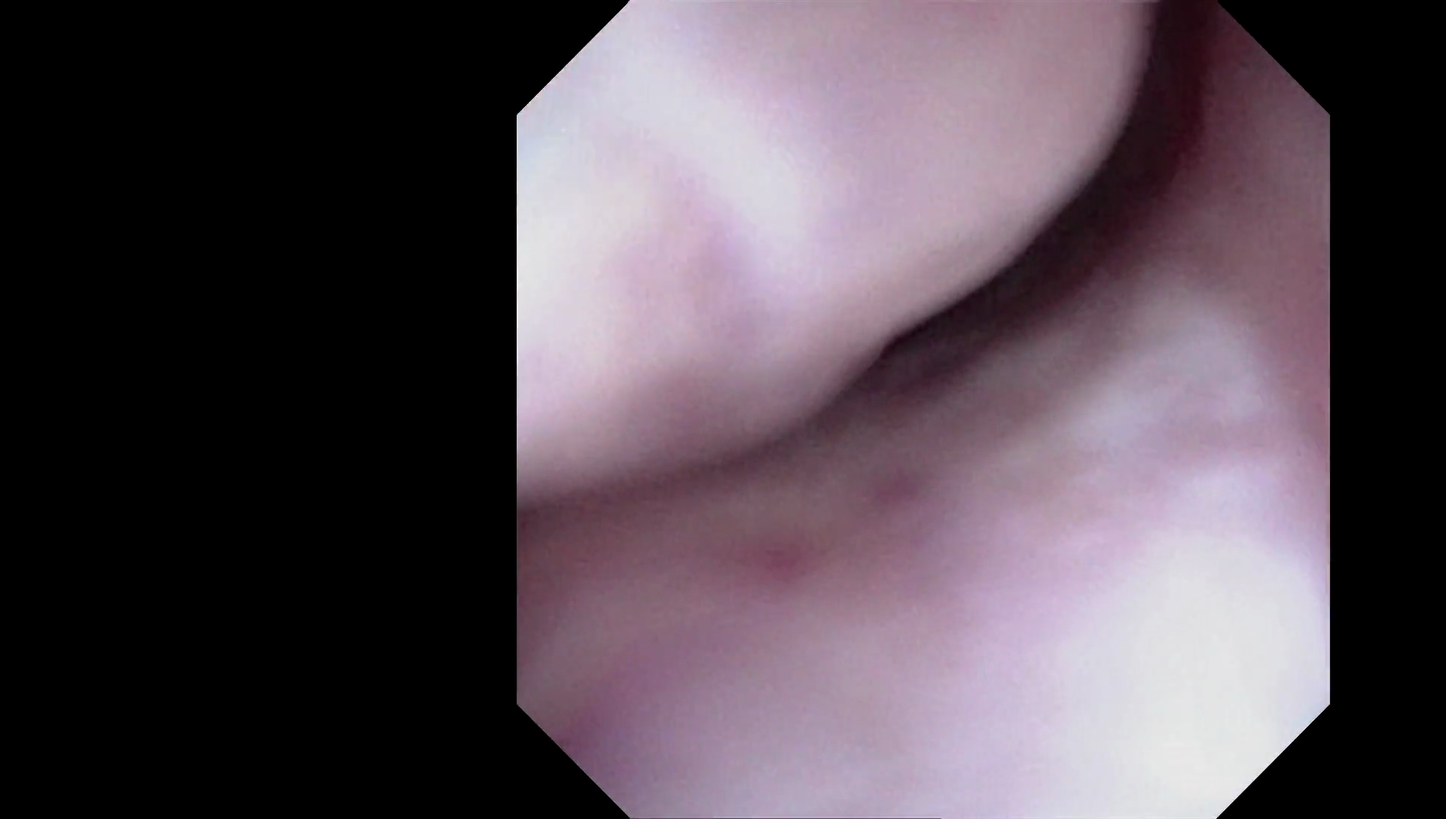close_wall: (752, 483, 1284, 742)
next: (840, 40, 1233, 397)
